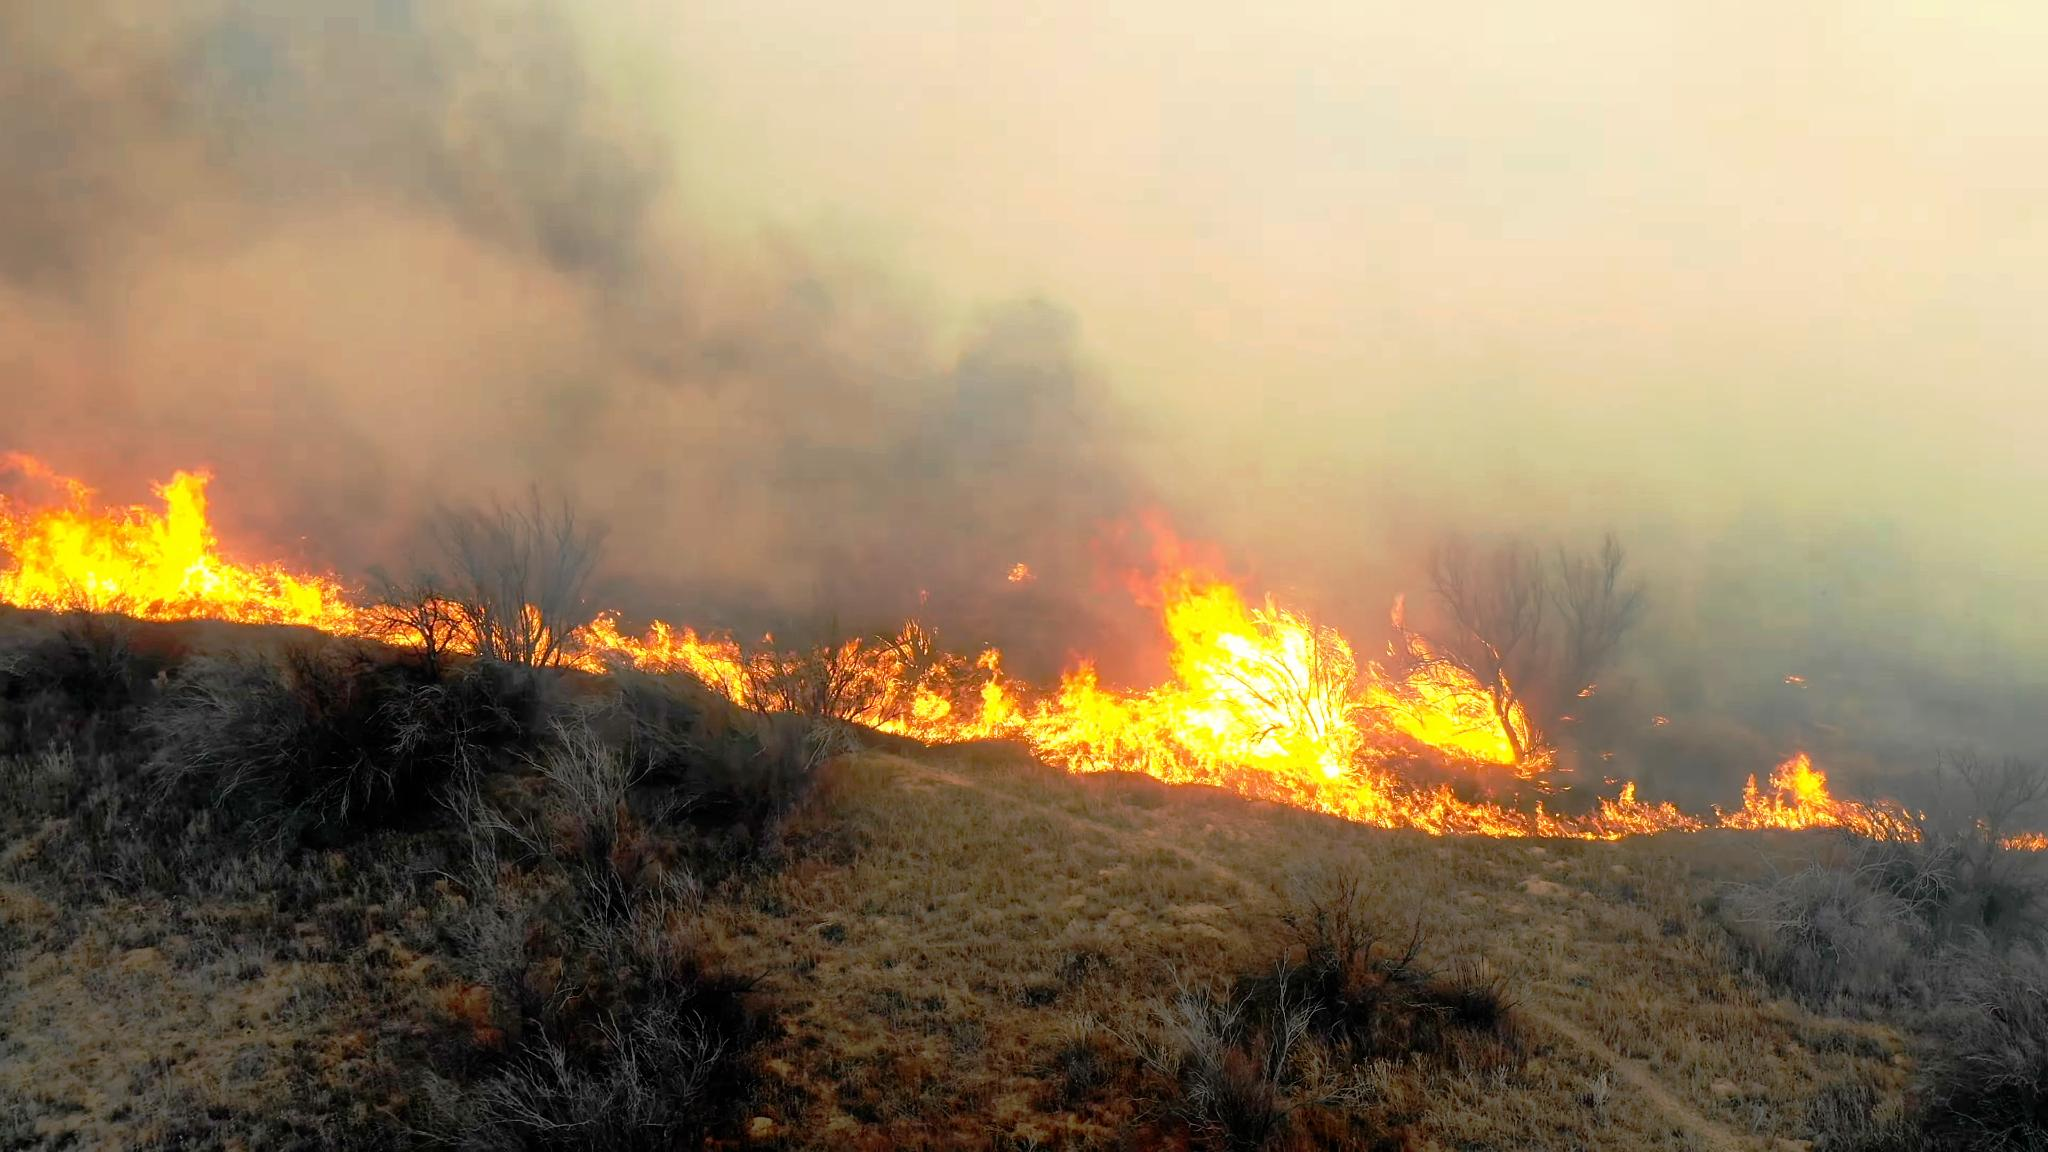fire: (0, 470, 300, 657), (1148, 539, 1360, 781), (1333, 633, 1521, 843), (878, 633, 1146, 758)
smoke: (0, 0, 703, 238), (726, 249, 1076, 610)
